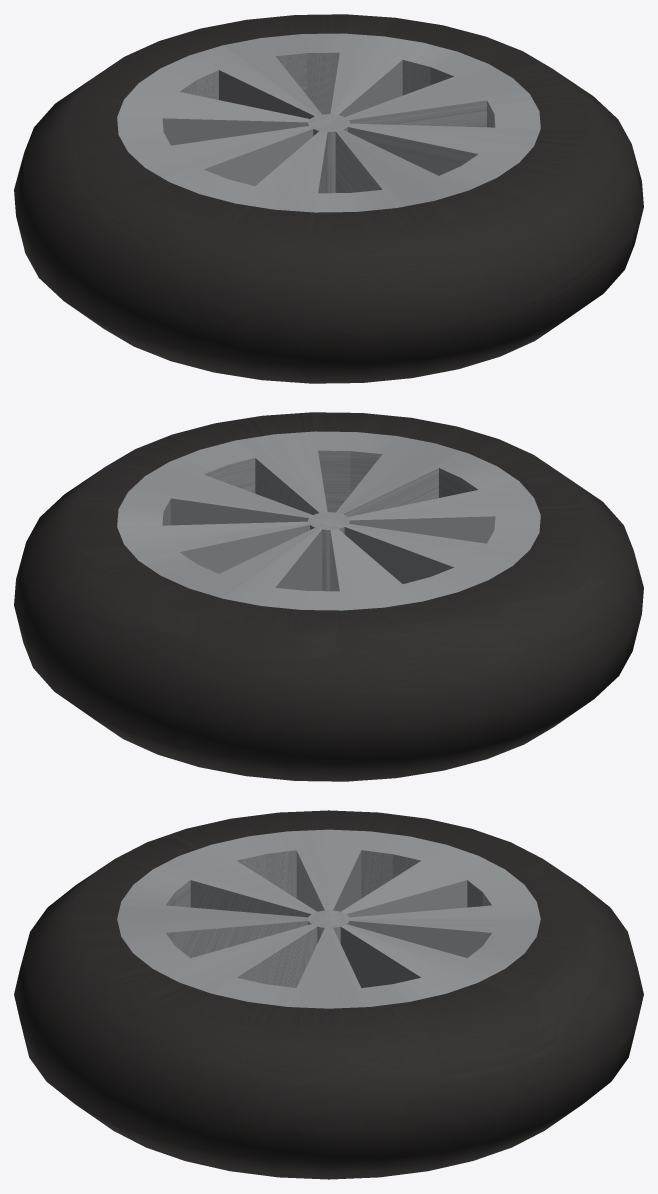
Rendered from wheel.obj.
3 views of the same model, one above another, from view 1: azimuth 30°, elevation 25°; view 2: azimuth 150°, elevation 25°; view 3: azimuth 270°, elevation 25° (orthographic).
Visible parts, largest first — view 1: Cylinder; view 2: Cylinder; view 3: Cylinder.
Boxes of the visible parts, x1,y1,x2,y2 form: Cylinder: [14, 14, 643, 383]; Cylinder: [14, 412, 643, 781]; Cylinder: [14, 810, 643, 1179].
Bounding box in the file's own units: 0.9749 × 0.2575 × 0.9749.
